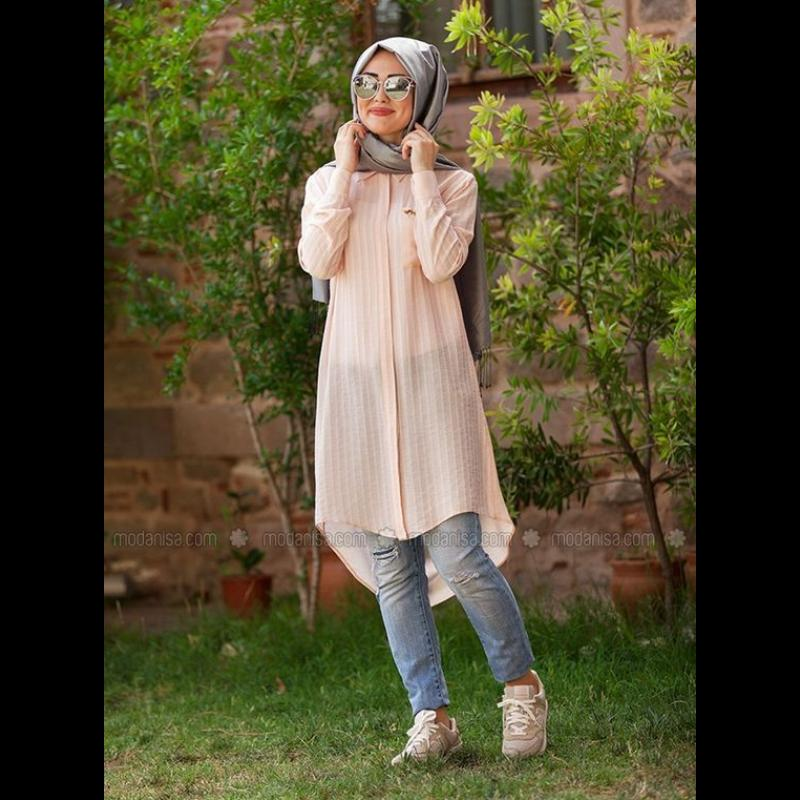Hijab: (331, 36, 453, 168)
Jeans: (370, 522, 530, 696)
kurta: (294, 166, 514, 574)
